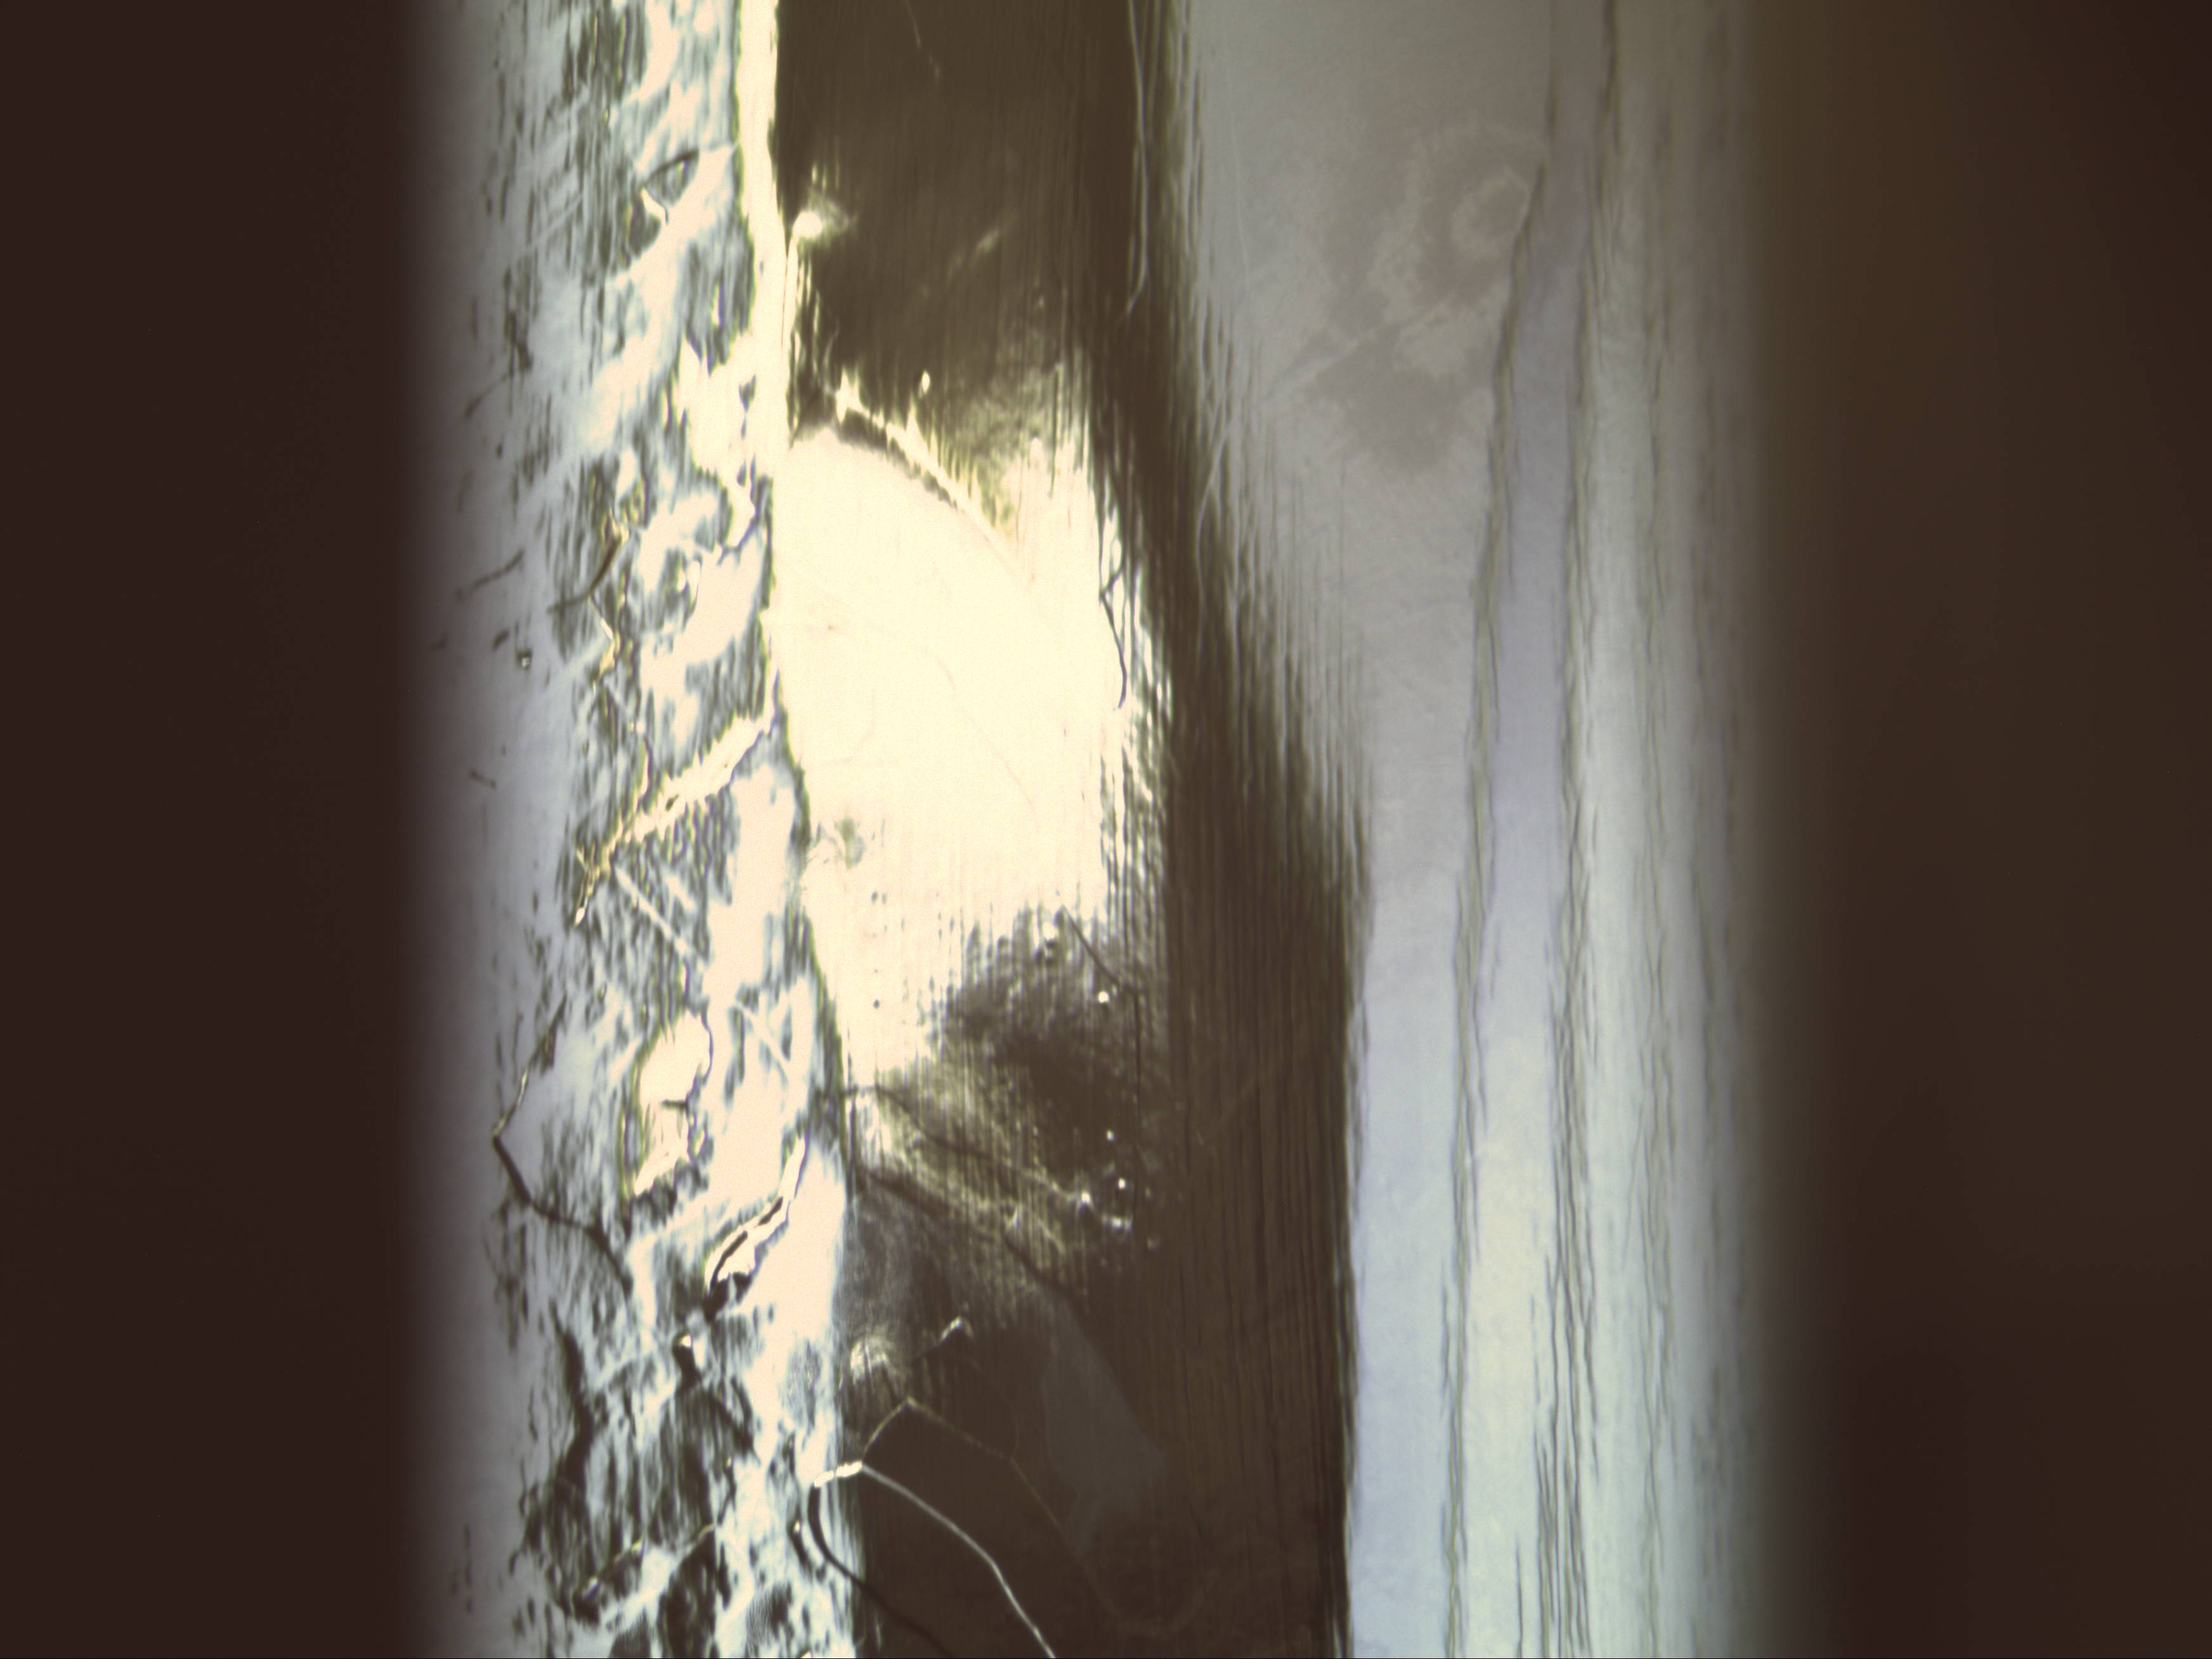defect: (1062, 1176, 1103, 1218), (1103, 1211, 1134, 1253), (1087, 981, 1120, 1014)
